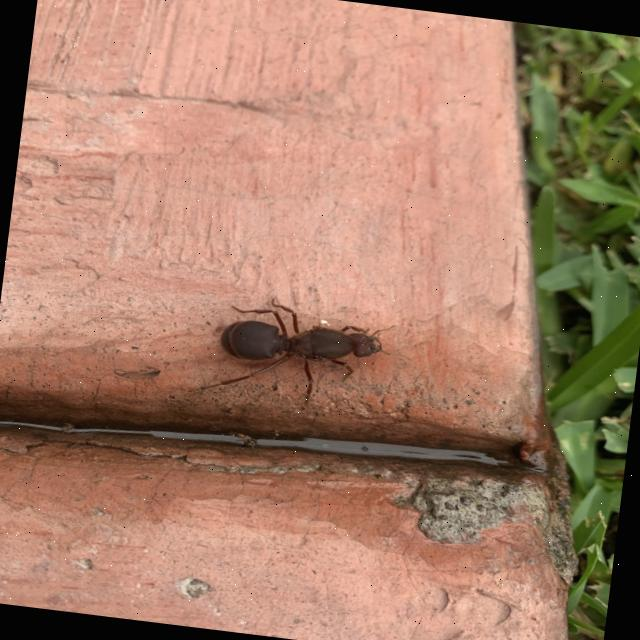Alive-Female-Dealate: (200, 290, 416, 415)
